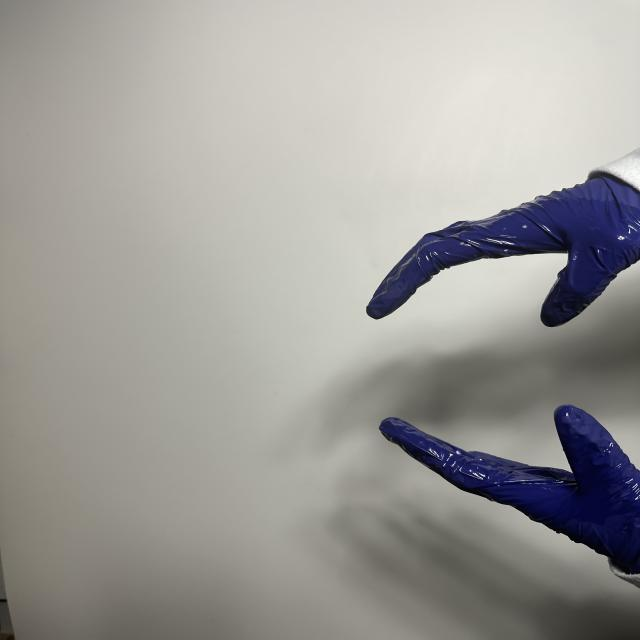gloves_contaminated: (380, 405, 640, 578), (366, 176, 640, 327)
